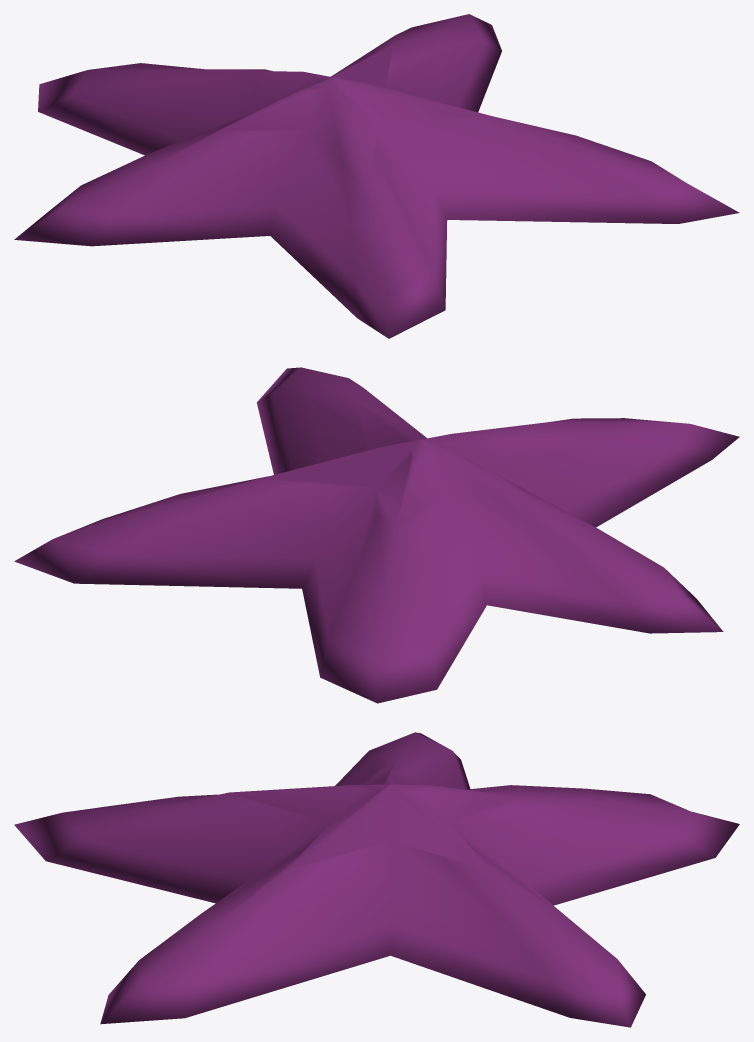
File: G_StarfishA.gltf
3 renders of one model, top to bottom at view 1: azimuth 30°, elevation 25°; view 2: azimuth 150°, elevation 25°; view 3: azimuth 270°, elevation 25°, orthographic. The views are drawn at different scales.
Visible parts, largest first — view 1: Cylinder; view 2: Cylinder; view 3: Cylinder.
Part boxes in pixels (<box>): Cylinder: <box>14,14,739,338</box>; Cylinder: <box>14,367,739,703</box>; Cylinder: <box>14,732,739,1027</box>.
Bounding box in the file's own units: 0.7585 × 0.1239 × 0.7908.
